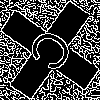C: (25, 25, 84, 82)
